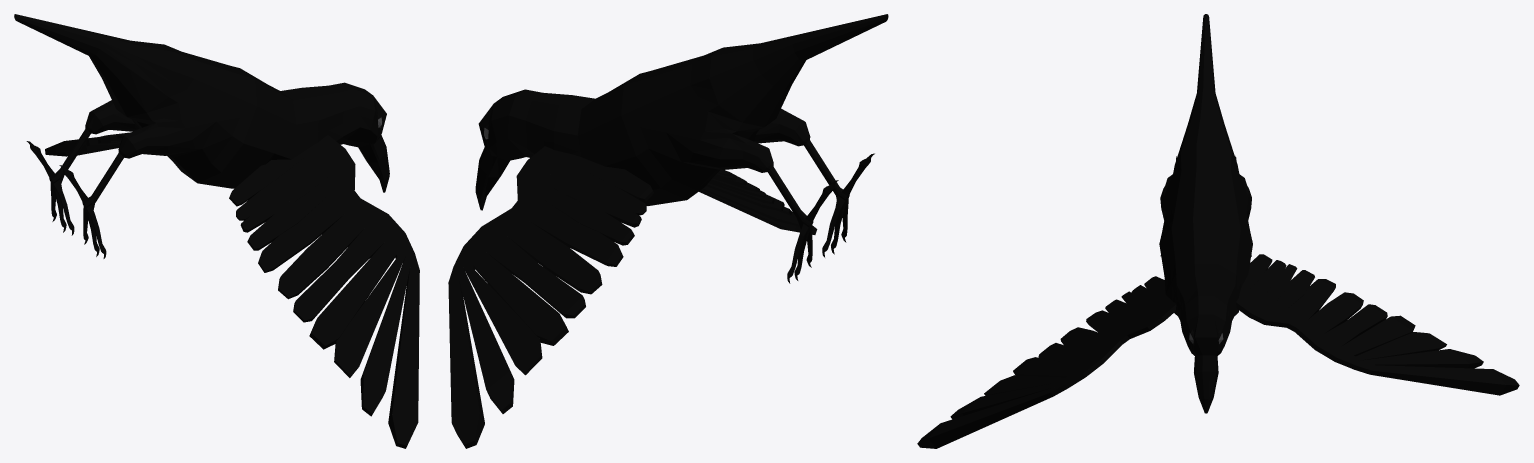
Rendered from crow_down_000010.obj.
3 renders of one model, left to right at view 1: azimuth 30°, elevation 25°; view 2: azimuth 150°, elevation 25°; view 3: azimuth 270°, elevation 25°, orthographic. The views are drawn at different scales.
Parts seen in each view (by area): view 1: Cylinder; view 2: Cylinder; view 3: Cylinder.
Part boxes in pixels (x1=…): Cylinder: x1=14, y1=14, x2=419, y2=448; Cylinder: x1=448, y1=14, x2=888, y2=448; Cylinder: x1=917, y1=14, x2=1519, y2=448.
Bounding box in the file's own units: 1.35 × 1.29 × 2.11.
